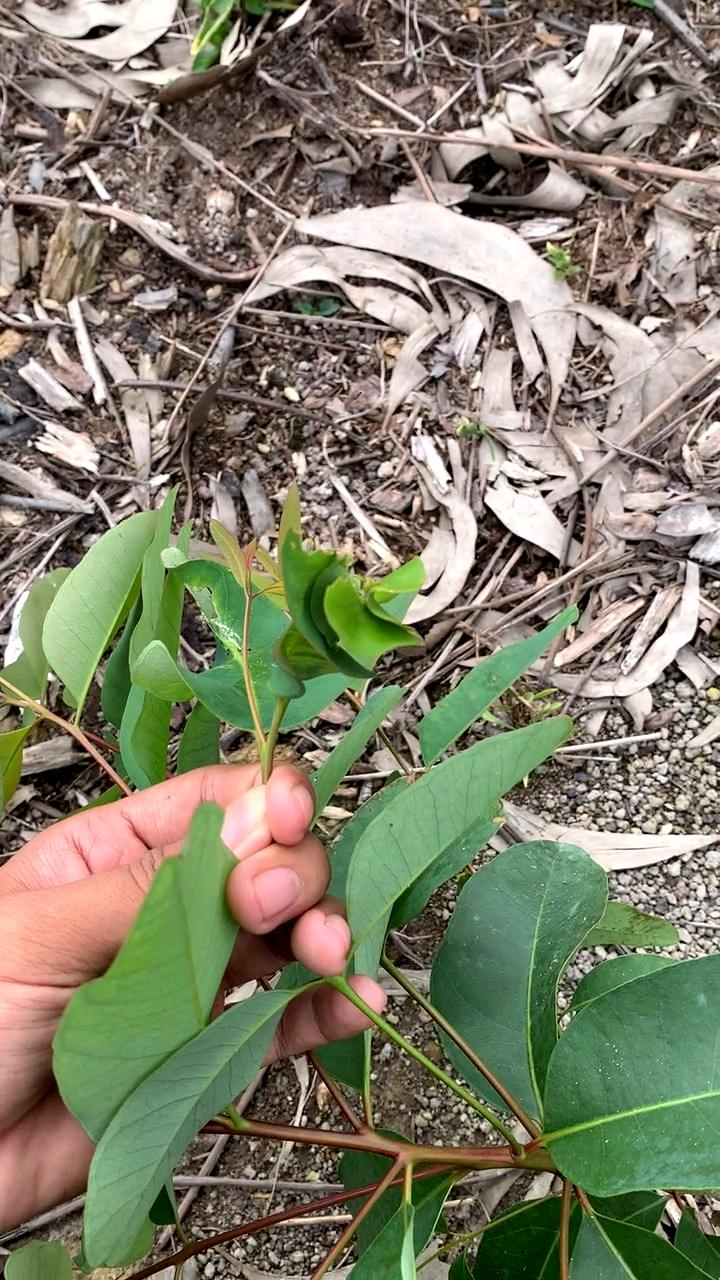Leaf Roller - Leaf: (255, 492, 455, 720)
